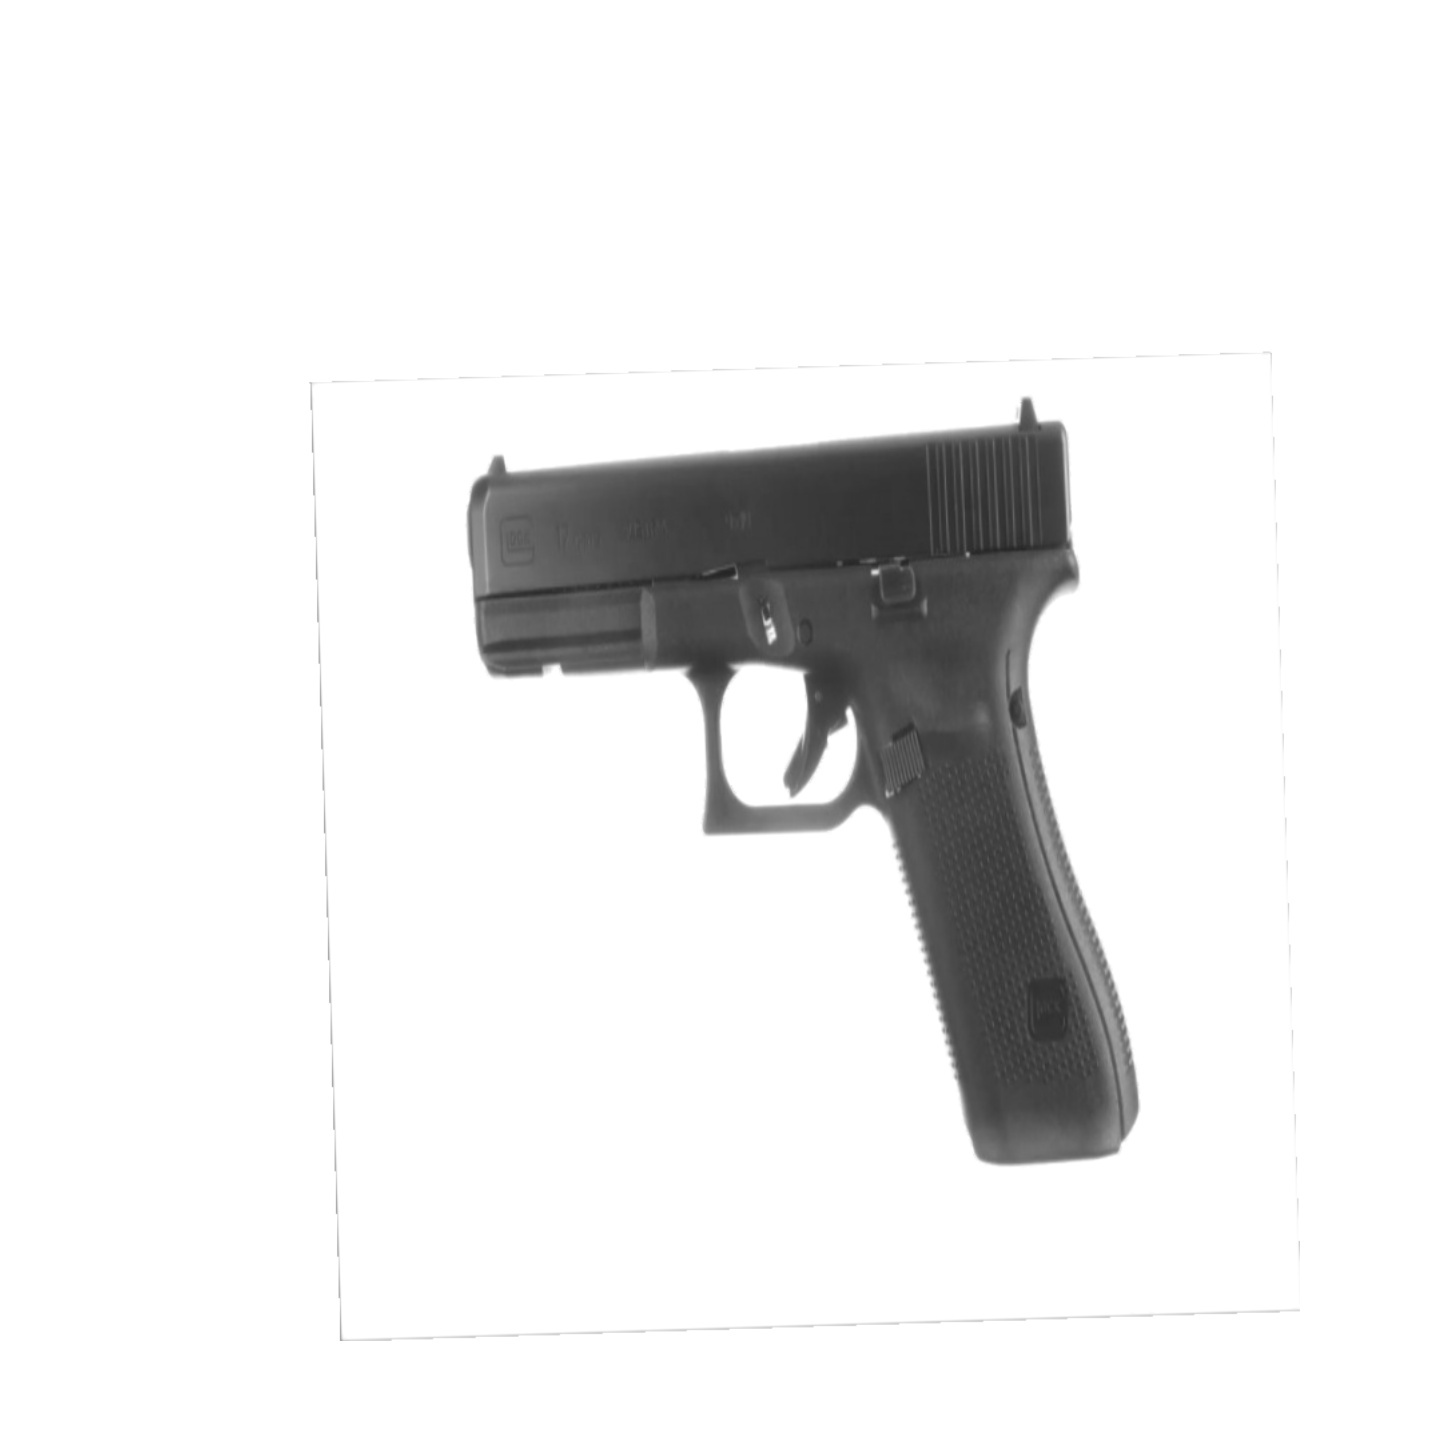gun: (441, 390, 1165, 1173)
